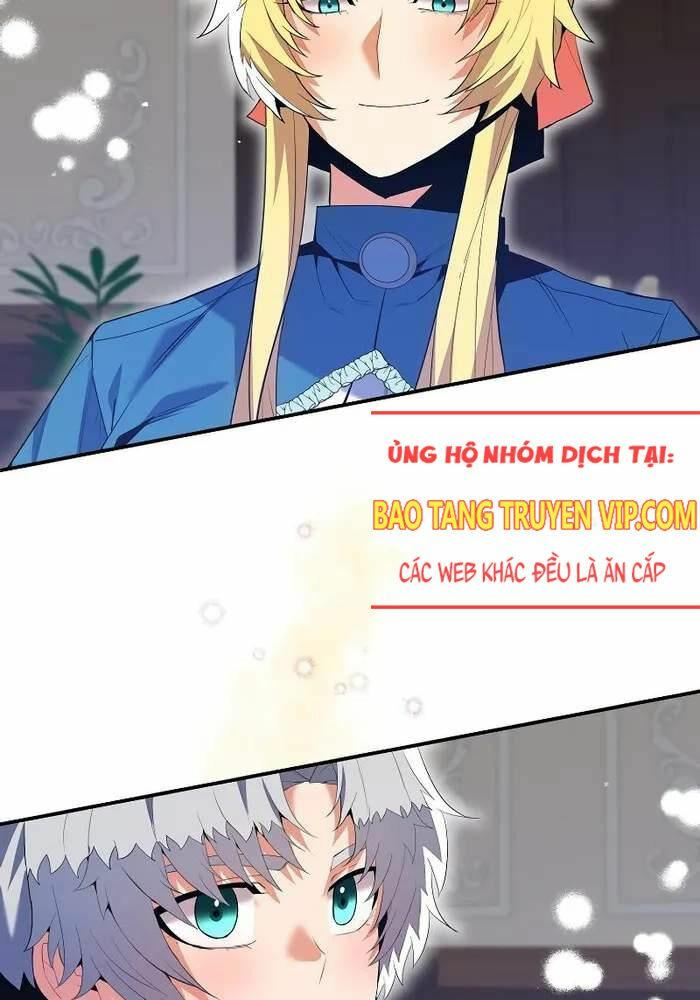quangcao: (373, 409, 700, 609)
